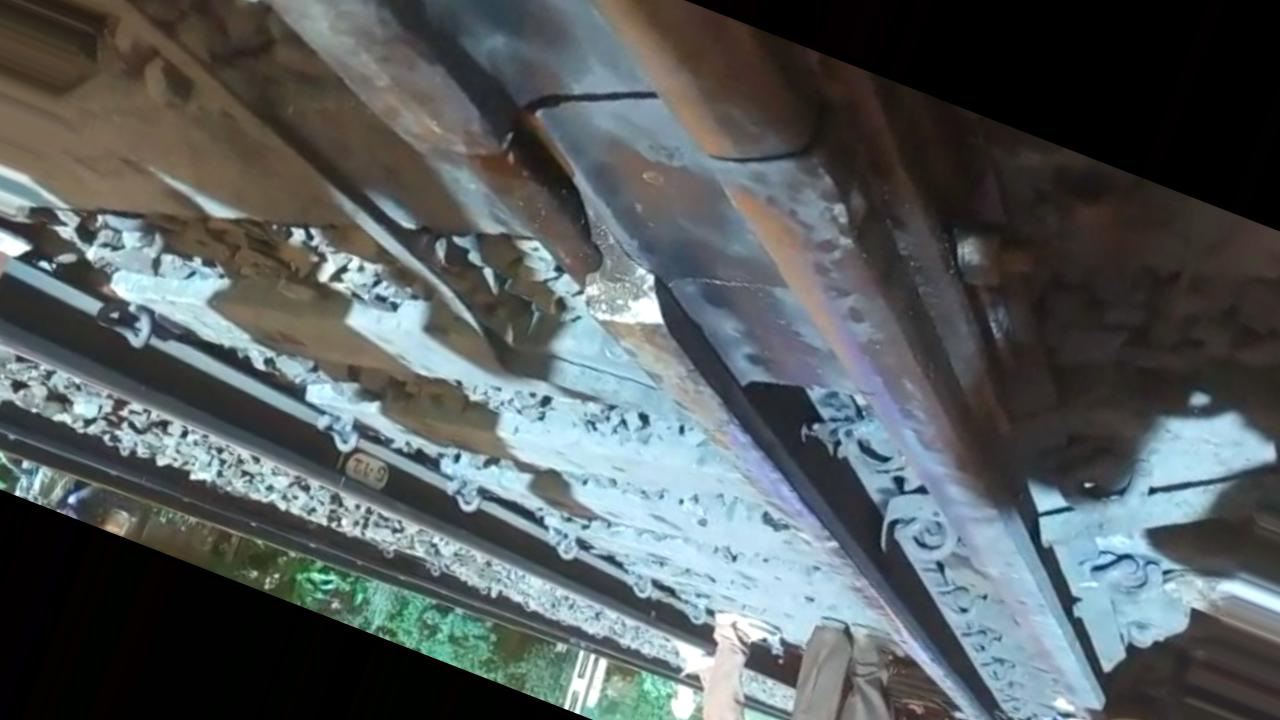tracks_fault: (506, 140, 748, 425)
